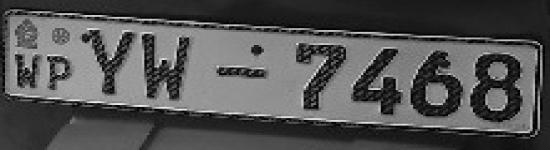-: (212, 62, 272, 85)
4: (350, 45, 407, 117)
6: (410, 46, 466, 120)
7: (288, 40, 349, 116)
8: (470, 49, 526, 124)
P: (48, 50, 78, 97)
W: (139, 30, 193, 102), (12, 52, 44, 92)
Y: (87, 25, 136, 99)
